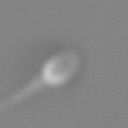normal: (1, 76, 43, 114)
